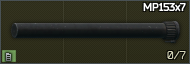MP-153 12ga 7-shell magazine extension: (0, 0, 190, 64)
